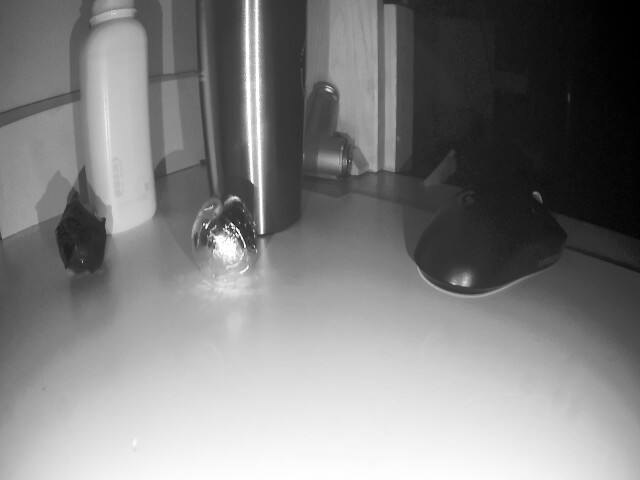black: (52, 203, 109, 277)
silver: (189, 197, 264, 291)
